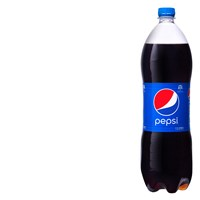pepsi: (152, 87, 179, 114)
